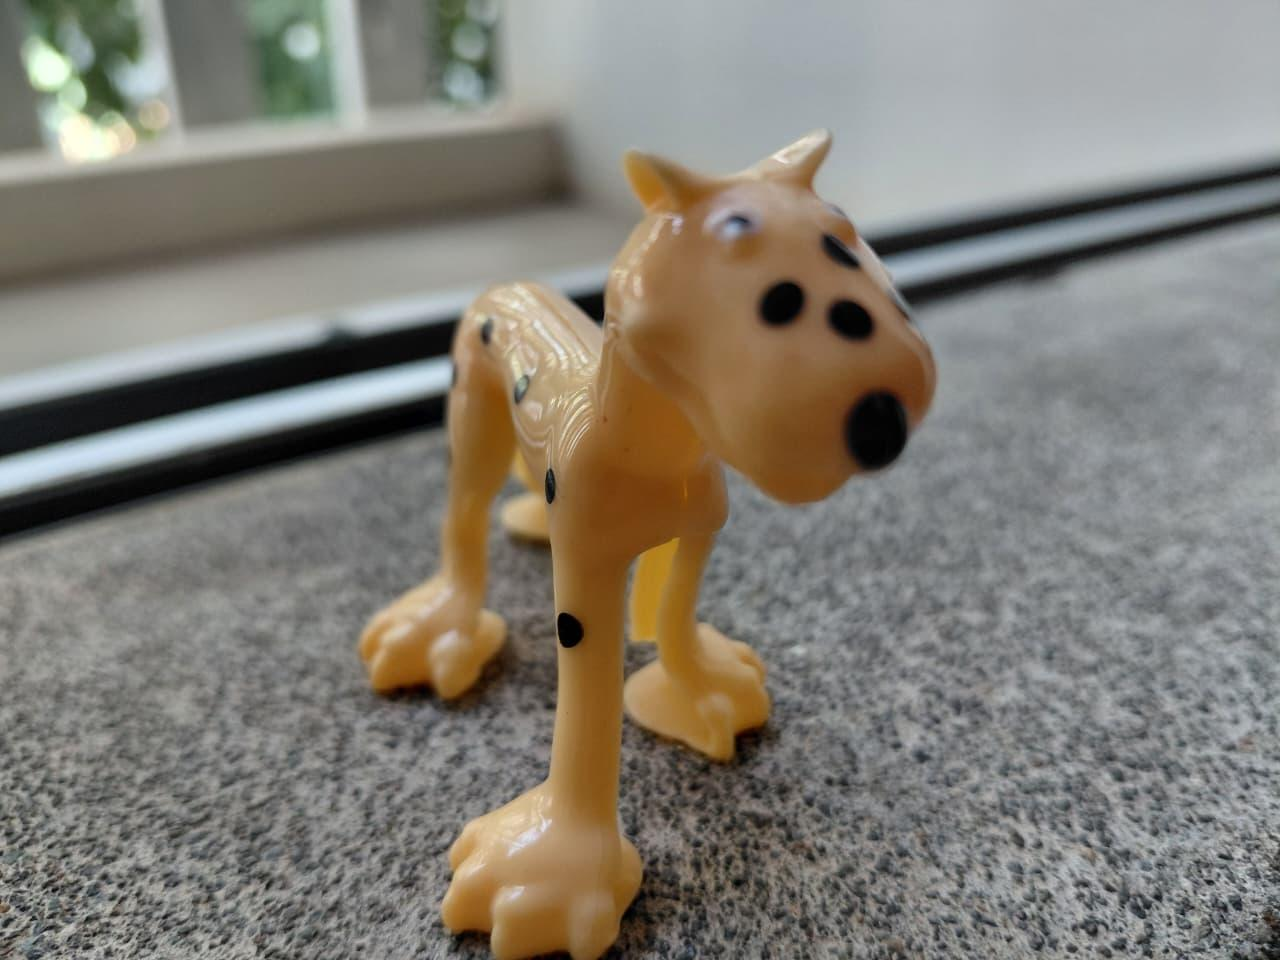cheetah: (288, 103, 989, 960)
